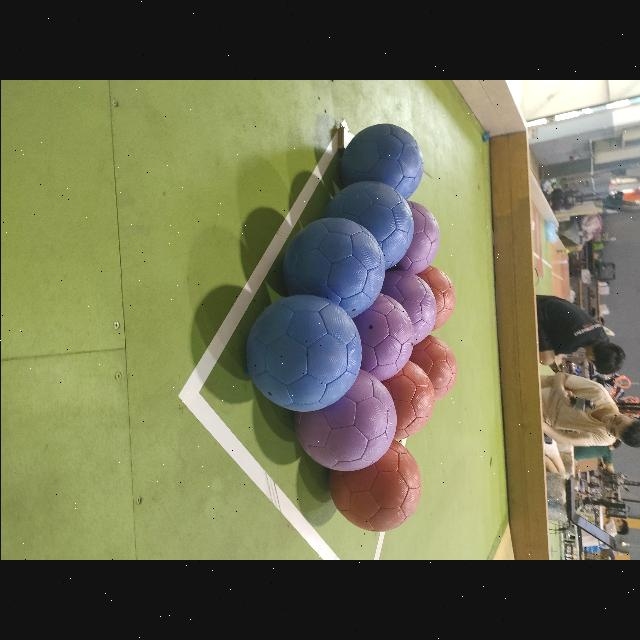B: (246, 295, 360, 411), (290, 226, 380, 316), (331, 185, 413, 268), (340, 124, 422, 200)
P: (296, 371, 396, 471), (353, 295, 412, 381), (388, 201, 439, 273)
R: (329, 441, 421, 532), (382, 362, 434, 440), (395, 338, 455, 399), (416, 266, 454, 332)
